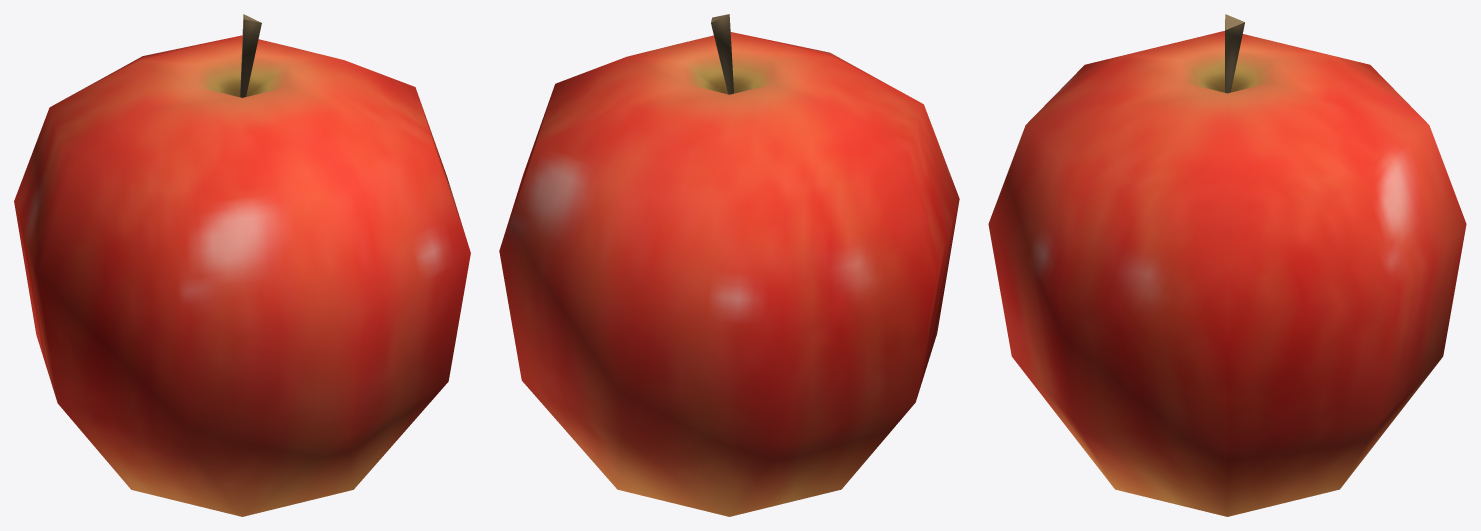
Rendered from jsf_Apple_01.fbx.
3 renders of one model, left to right at view 1: azimuth 30°, elevation 25°; view 2: azimuth 150°, elevation 25°; view 3: azimuth 270°, elevation 25°, orthographic.
Parts seen in each view (by area): view 1: jsf_Apple_01; view 2: jsf_Apple_01; view 3: jsf_Apple_01.
Part boxes in pixels (x1=…): jsf_Apple_01: x1=14, y1=14, x2=470, y2=516; jsf_Apple_01: x1=499, y1=14, x2=959, y2=516; jsf_Apple_01: x1=988, y1=14, x2=1466, y2=516.
Size of the model in its own units: 6.42 by 6.81 by 6.42.
